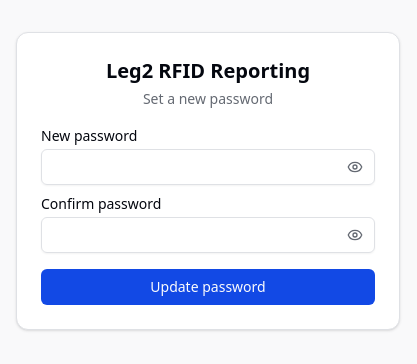
Test: ResetPasswordPage › blocks submit when the two passwords differ
Type "newpass12" into the password field labelled "New password" at [208, 167], box [41, 149, 375, 185]
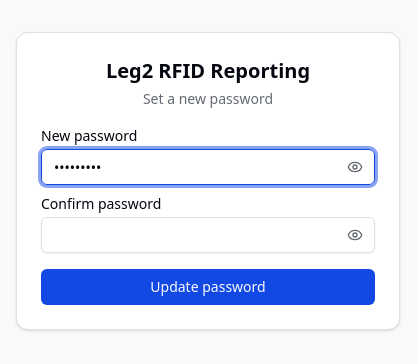
Type "different1" into the password field labelled "Confirm password" at [208, 235], box [41, 217, 375, 253]
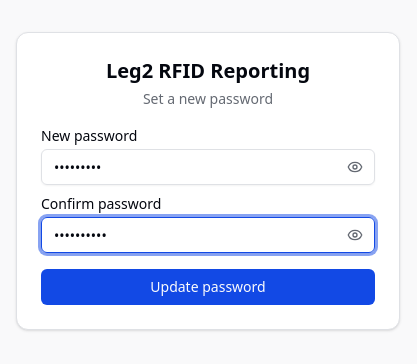
Click the button "Update password" at [208, 287], box [41, 269, 375, 305]
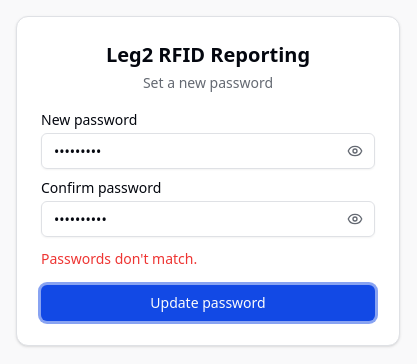
Now the text "Passwords don't match." is shown, box [41, 249, 197, 268]
